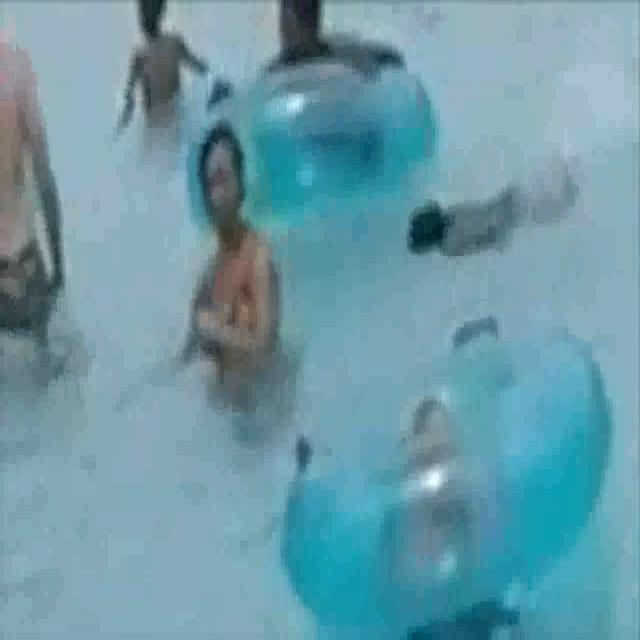Out of Water: (393, 160, 604, 243)
